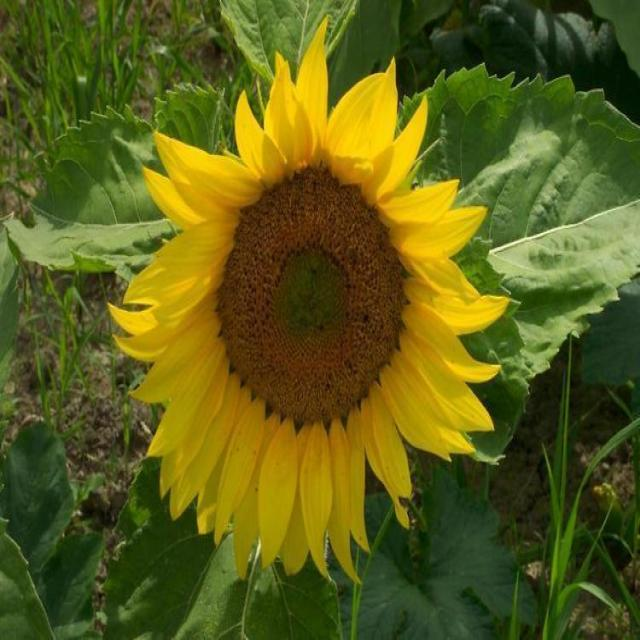sunflower: (110, 34, 505, 607)
